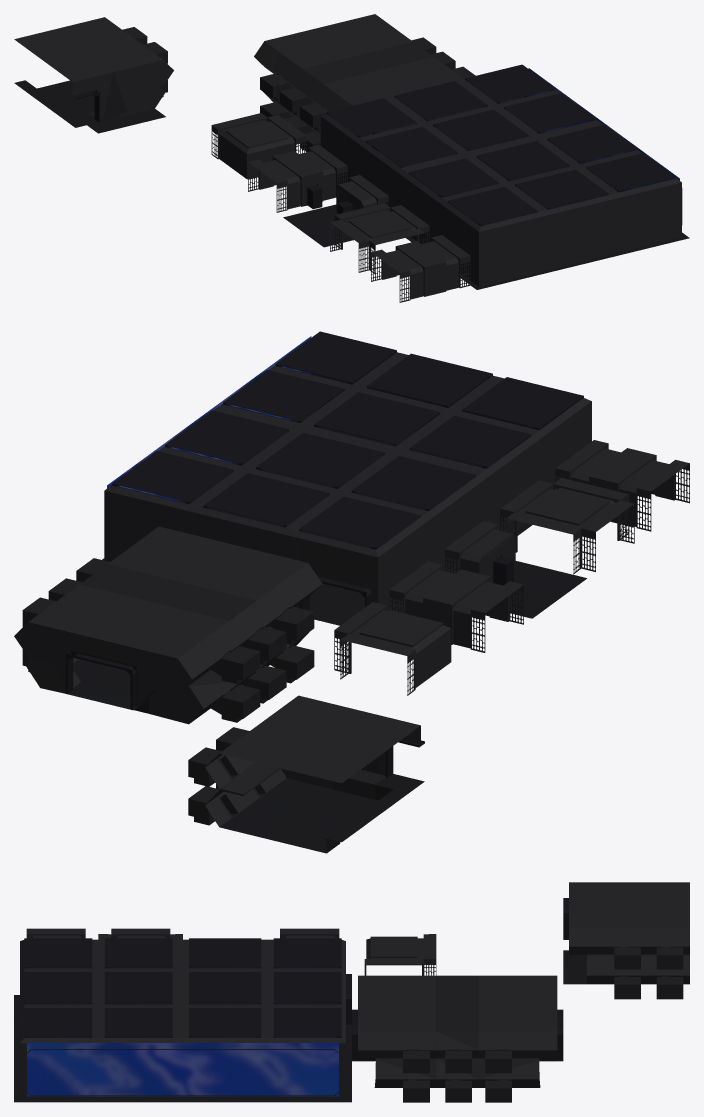
Rendered from Imperial_level_pack_Demo.fbx.
3 views of the same model, one above another, from view 1: azimuth 30°, elevation 25°; view 2: azimuth 150°, elevation 25°; view 3: azimuth 270°, elevation 25° (orthographic). The views are drawn at different scales.
Visible parts, largest first — view 1: Hanger.2, Hanger.1, z.3, BrigEnd, BrigEnd.001, Hall, HallWDoor, Corner, BrigSegment, Intersect, z.2, z (+5 smaller); view 2: Hanger.1, Hanger.2, BrigEnd, BrigEnd.001, z.3, BrigSegment, z.2, HallWDoor, Intersect, Corner, Hall, z (+6 smaller); view 3: Hanger.2, Hanger.1, RayShield, BrigEnd, BrigEnd.001, z.3, BrigSegment, z.2, 3.4 floor, Corner, Intersect, z (+2 smaller).
Part boxes in pixels (bbox=[...]): Hanger.2: bbox=[397, 120, 682, 286]; Hanger.1: bbox=[320, 64, 598, 207]; z.3: bbox=[35, 32, 173, 122]; BrigEnd: bbox=[254, 14, 436, 118]; BrigEnd.001: bbox=[300, 57, 475, 151]; Hall: bbox=[371, 235, 470, 302]; HallWDoor: bbox=[248, 145, 347, 212]; Corner: bbox=[211, 113, 306, 179]; BrigSegment: bbox=[279, 42, 455, 144]; Intersect: bbox=[330, 203, 429, 273]; z.2: bbox=[14, 17, 147, 54]; z: bbox=[35, 95, 165, 133]; Hanger.1: bbox=[104, 410, 481, 612]; Hanger.2: bbox=[214, 331, 591, 533]; BrigEnd: bbox=[14, 584, 260, 723]; BrigEnd.001: bbox=[76, 526, 322, 683]; z.3: bbox=[216, 695, 424, 806]; BrigSegment: bbox=[48, 564, 286, 703]; z.2: bbox=[188, 733, 369, 826]; HallWDoor: bbox=[389, 561, 523, 652]; Intersect: bbox=[500, 478, 634, 574]; Corner: bbox=[334, 602, 451, 695]; Hall: bbox=[555, 440, 689, 531]; z: bbox=[247, 774, 424, 829]; Hanger.2: bbox=[20, 938, 188, 1099]; Hanger.1: bbox=[188, 938, 351, 1099]; RayShield: bbox=[27, 1043, 338, 1096]; BrigEnd: bbox=[478, 975, 563, 1102]; BrigEnd.001: bbox=[352, 975, 436, 1102]; z.3: bbox=[563, 882, 647, 999]; BrigSegment: bbox=[436, 975, 478, 1102]; z.2: bbox=[647, 882, 689, 999]; 3.4 floor: bbox=[14, 995, 351, 1102]; Corner: bbox=[364, 934, 436, 975]; Intersect: bbox=[98, 928, 182, 939]; z: bbox=[563, 939, 586, 984].
Bounding box in the file's own units: 9800 × 1996 × 16001.
Materials: 44 (44 with a texture image).
